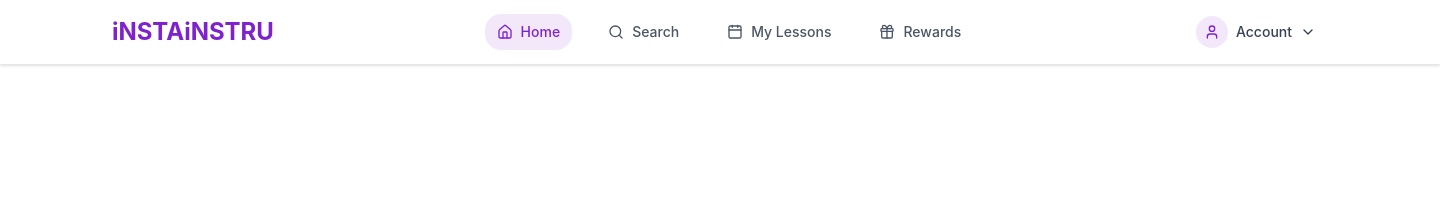
Test: StudentHeader › SSR hydration (server snapshot path) › shows "User" in dropdown header when server snapshot is active
Click the button with aria-label "open account menu": (1256, 32) [1184,8,1328,56]
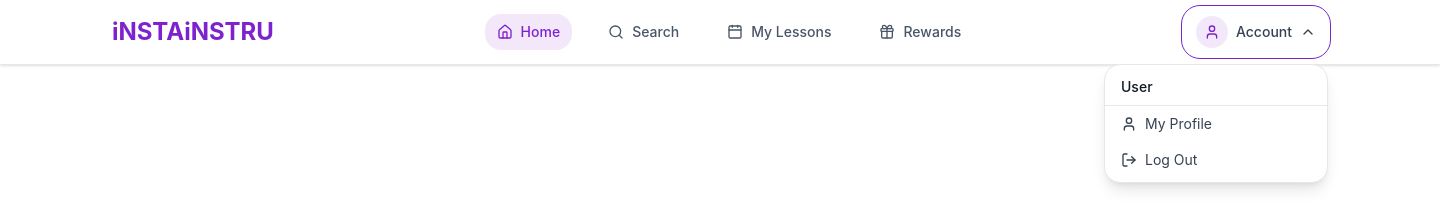
expect the text "User" is shown: met, box [1121,78,1152,95]
